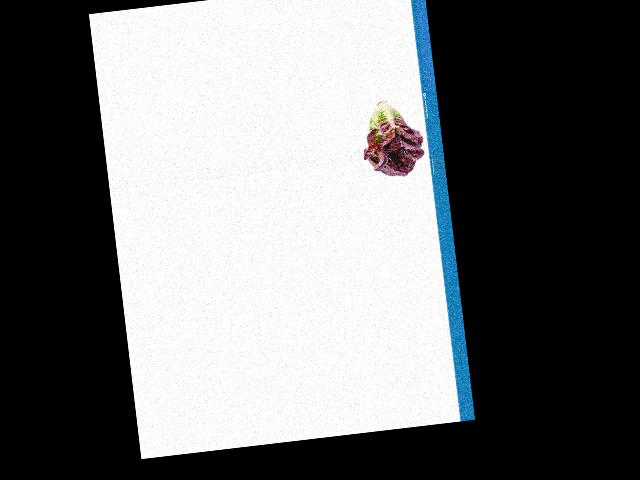lettuce: (359, 95, 427, 179)
